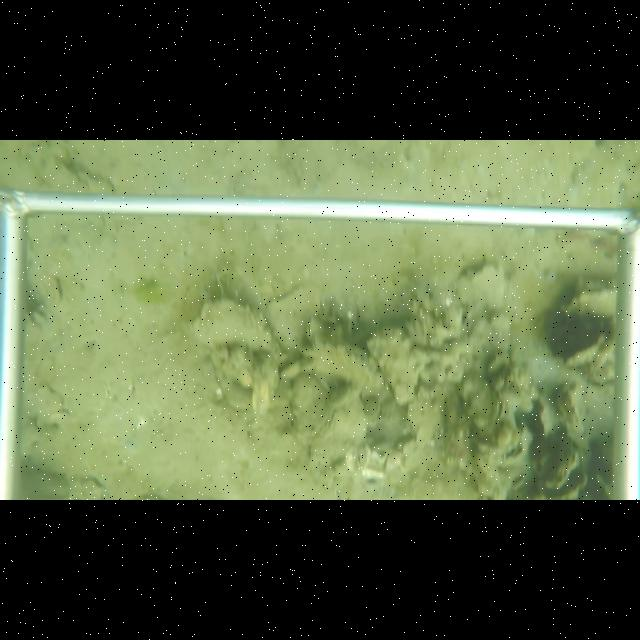Oyster-Closed: (304, 391, 371, 473), (363, 328, 431, 407), (193, 297, 282, 355), (267, 281, 323, 352), (449, 263, 508, 323)
Oyster-Open: (541, 440, 592, 500), (483, 426, 533, 470), (531, 392, 555, 442), (493, 392, 509, 428)
